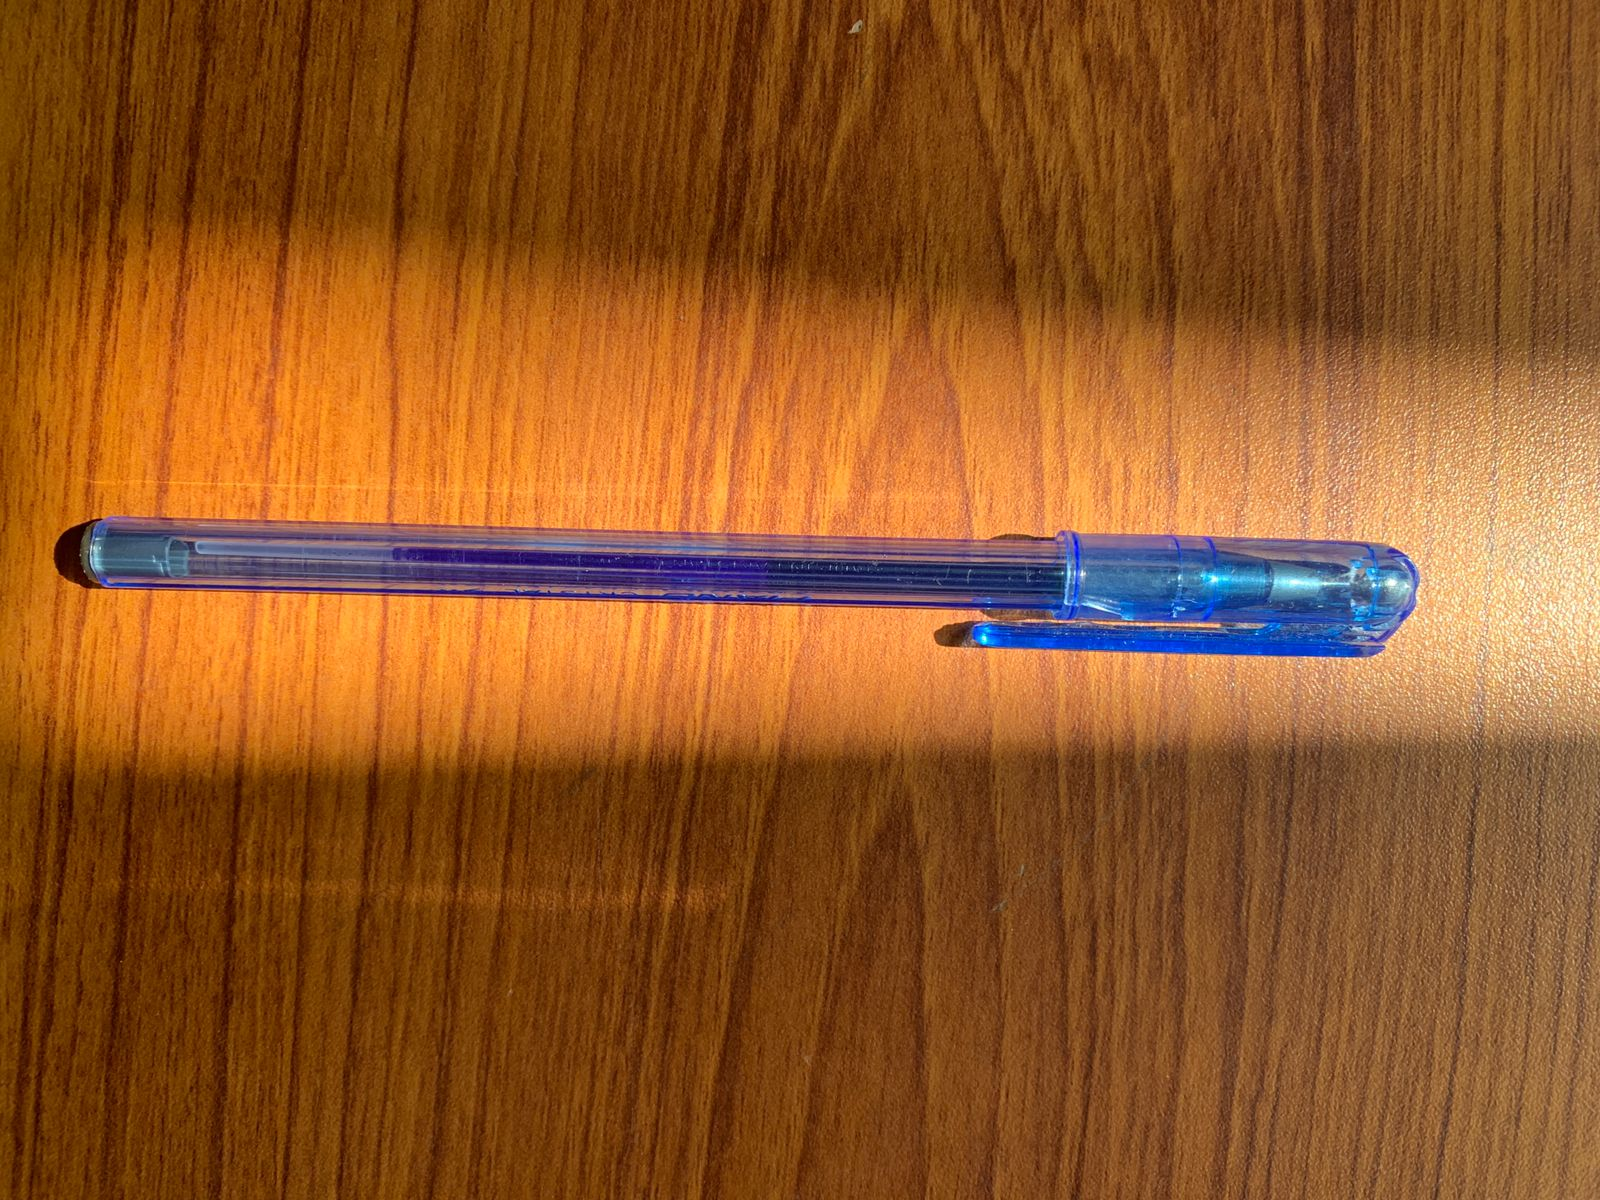pen: (11, 349, 1556, 828)
